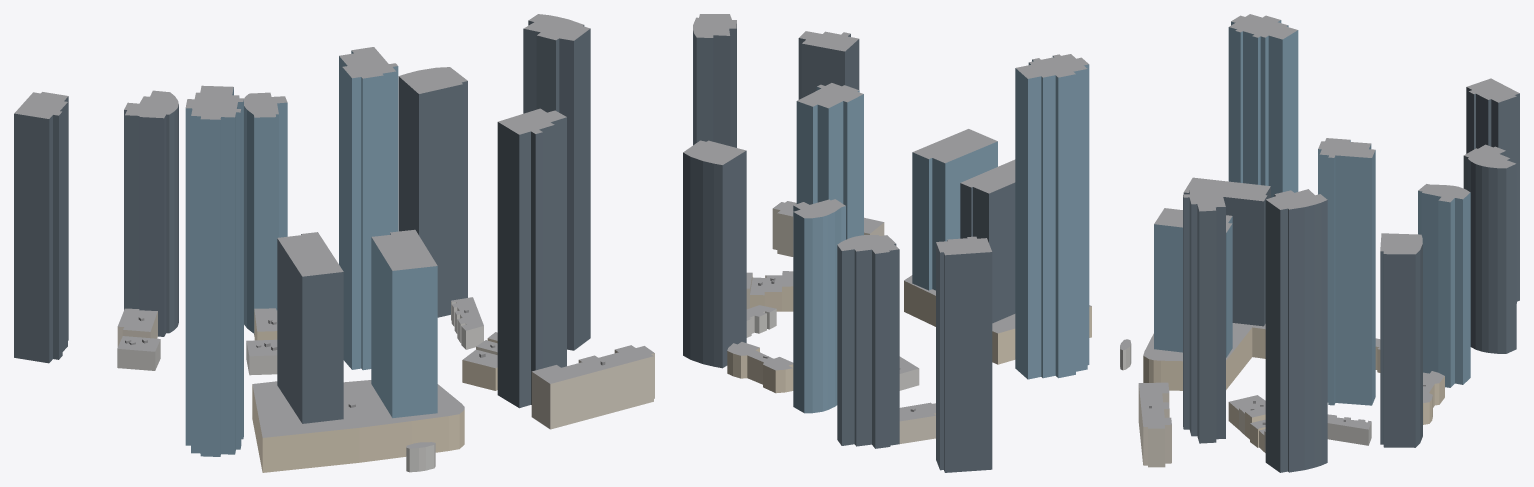
The model's file is building_-2_3.glb.
The picture shows the model from 3 angles, left to right: view 1: azimuth 30°, elevation 25°; view 2: azimuth 150°, elevation 25°; view 3: azimuth 270°, elevation 25°; orthographic projection. The views are drawn at different scales.
Visible parts, largest first — view 1: glass_dark, glass_blue, roof, sandstone, concrete_warm, concrete_light; view 2: glass_dark, glass_blue, roof, sandstone, concrete_warm, concrete_light; view 3: glass_dark, glass_blue, roof, sandstone, concrete_warm, concrete_light.
Boxes of the visible parts, x1,y1,x2,y2 form: glass_dark: [14, 20, 590, 423]; glass_blue: [185, 50, 437, 456]; roof: [14, 14, 654, 448]; sandstone: [252, 310, 497, 472]; concrete_warm: [117, 311, 654, 429]; concrete_light: [117, 301, 483, 472]; glass_dark: [683, 24, 1015, 472]; glass_blue: [793, 56, 1089, 413]; roof: [683, 14, 1091, 421]; sandstone: [727, 275, 1091, 393]; concrete_warm: [746, 208, 935, 443]; concrete_light: [746, 309, 919, 390]; glass_dark: [1183, 87, 1519, 472]; glass_blue: [1154, 20, 1470, 405]; roof: [1120, 14, 1519, 434]; sandstone: [1143, 327, 1444, 451]; concrete_warm: [1138, 385, 1265, 467]; concrete_light: [1120, 344, 1371, 445].
Bounding box in the file's own units: 260 × 185 × 234.
